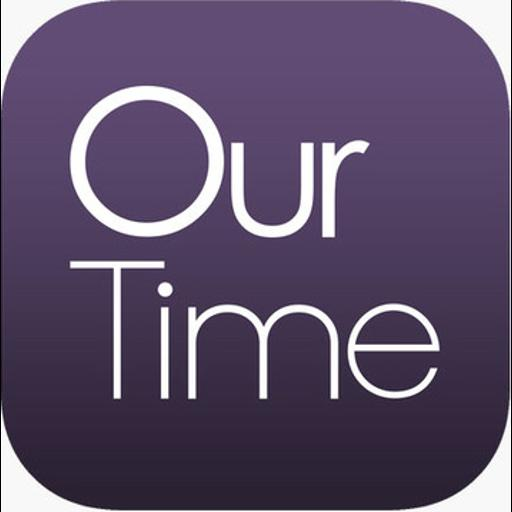OurTime Dating: (1, 0, 511, 512)
